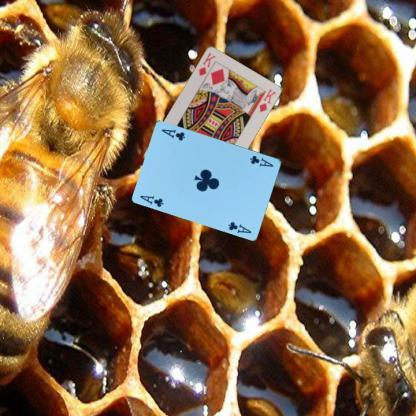Ac: (138, 192, 166, 208), (247, 152, 274, 168)
Kd: (196, 50, 217, 77)
